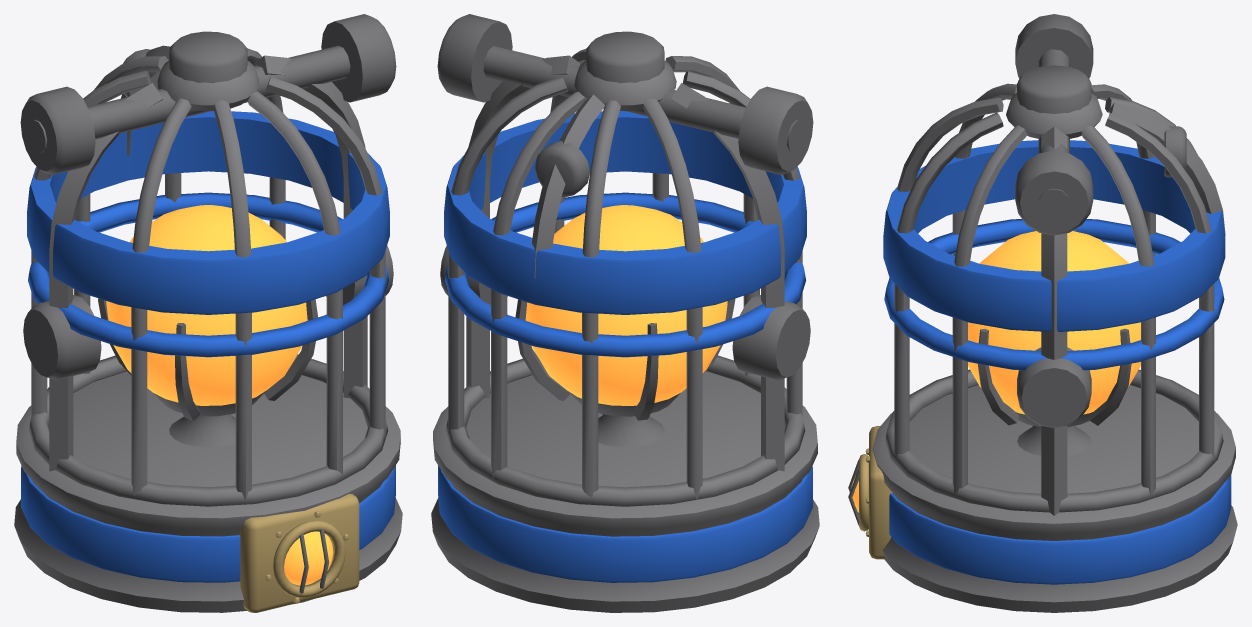
File: Kit_Core_Cage.glb
The picture shows the model from 3 angles, left to right: view 1: azimuth 30°, elevation 25°; view 2: azimuth 150°, elevation 25°; view 3: azimuth 270°, elevation 25°; orthographic projection. The views are drawn at different scales.
Visible parts, largest first — view 1: Kit_Core_Cage; view 2: Kit_Core_Cage; view 3: Kit_Core_Cage.
Part boxes in pixels (x1,y1,x2,y2): Kit_Core_Cage: (14, 14, 402, 612); Kit_Core_Cage: (431, 14, 819, 612); Kit_Core_Cage: (848, 14, 1237, 612).
Size of the model in its own units: 0.4 by 0.566 by 0.4184.
